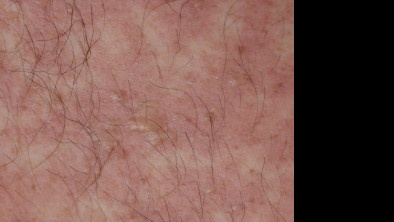SJS-TEN: (1, 0, 294, 221)
